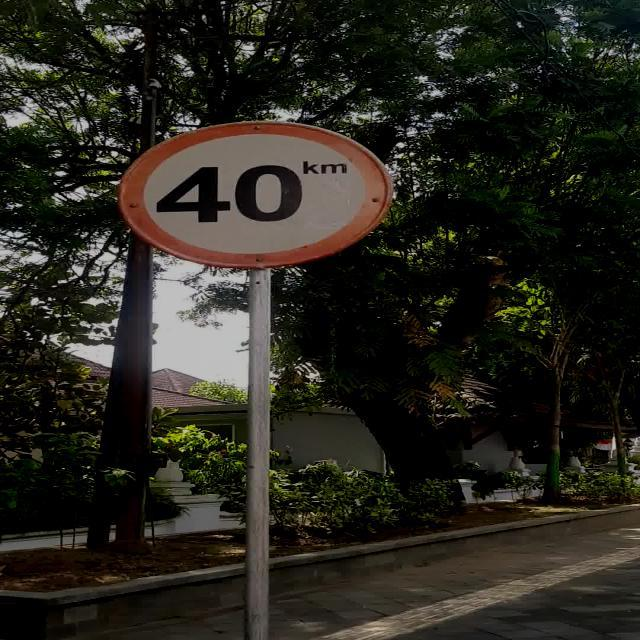Kecepatan Maks. 40 km: (116, 120, 392, 268)
